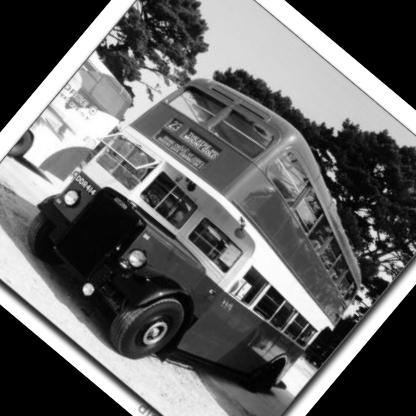bus: (1, 3, 416, 416)
